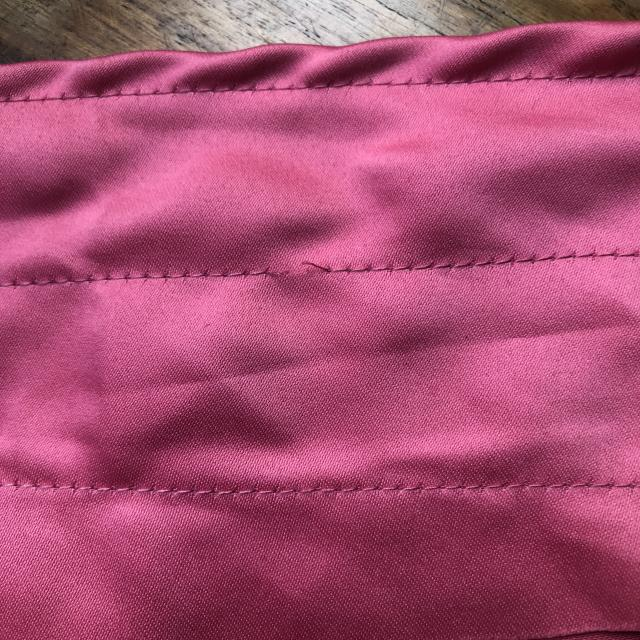broken: (240, 244, 348, 296)
good: (235, 474, 397, 508)
